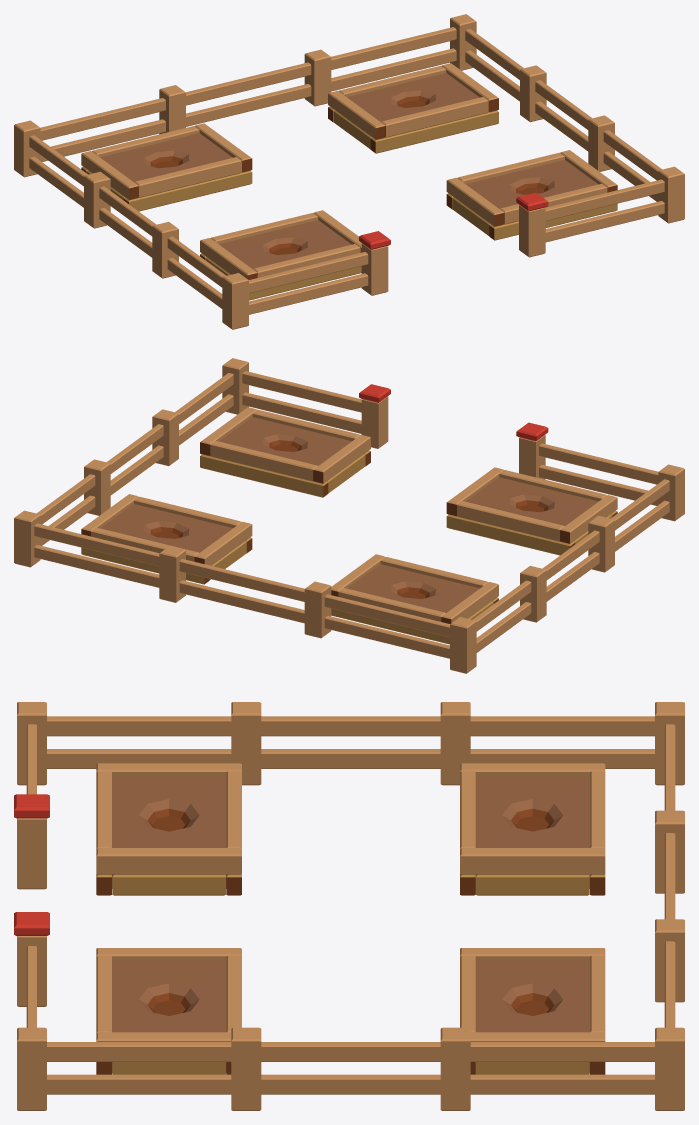
Rendered from GardenCrossroads.glb.
3 renders of one model, top to bottom at view 1: azimuth 30°, elevation 25°; view 2: azimuth 150°, elevation 25°; view 3: azimuth 270°, elevation 25°, orthographic. The views are drawn at different scales.
Visible parts, largest first — view 1: FenceBack, Bed04, Bed03, Bed02, Bed01, FenceLeft, FenceRight, FenceFrontLeft, FenceFrontRight; view 2: FenceBack, Bed02, Bed01, Bed04, Bed03, FenceLeft, FenceRight, FenceFrontRight, FenceFrontLeft; view 3: FenceRight, FenceLeft, Bed01, Bed03, Bed02, Bed04, FenceBack, FenceFrontRight, FenceFrontLeft.
Boxes of the visible parts, x1,y1,x2,y2 form: FenceBack: (14, 14, 476, 177); Bed04: (328, 63, 498, 153); Bed03: (81, 123, 252, 211); Bed02: (446, 150, 617, 240); Bed01: (200, 210, 361, 300); FenceLeft: (29, 135, 226, 308); FenceRight: (465, 29, 662, 201); FenceFrontLeft: (222, 231, 390, 329); FenceFrontRight: (516, 166, 684, 257); FenceBack: (14, 510, 476, 673); Bed02: (200, 407, 370, 497); Bed01: (446, 467, 617, 555); Bed04: (81, 494, 252, 584); Bed03: (331, 554, 498, 644); FenceLeft: (472, 479, 669, 652); FenceRight: (36, 373, 233, 545); FenceFrontRight: (222, 358, 390, 448); FenceFrontLeft: (516, 422, 684, 521); FenceRight: (47, 1027, 654, 1110); FenceLeft: (47, 702, 654, 785); Bed01: (96, 763, 241, 895); Bed03: (460, 763, 605, 895); Bed02: (96, 948, 241, 1074); Bed04: (460, 948, 605, 1074); FenceBack: (655, 702, 684, 1110); FenceFrontRight: (14, 912, 49, 1110); FenceFrontLeft: (14, 702, 49, 889).
Bounding box in the file's own units: 4.63 × 0.5292 × 3.88.
1 material, 1 textured.
